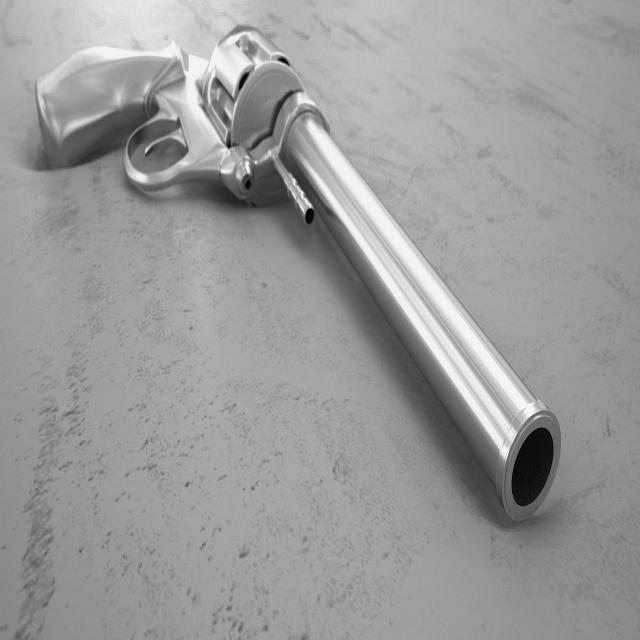Gun: (38, 26, 560, 520)
